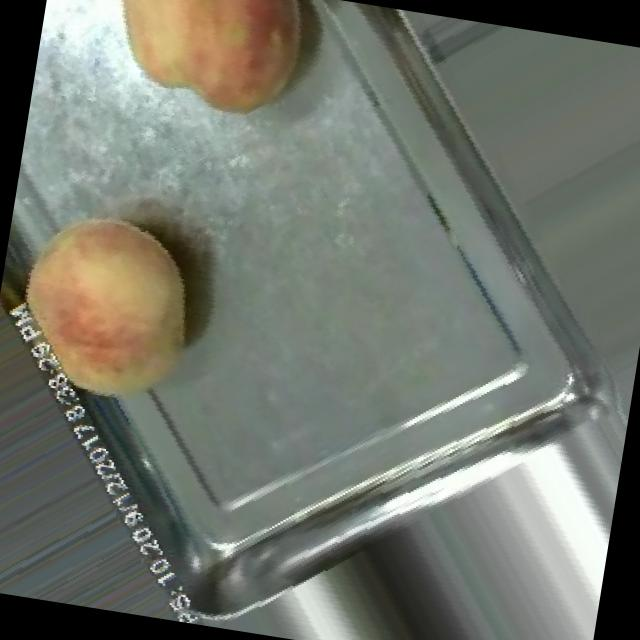Fruit: (0, 181, 231, 440), (76, 0, 335, 150)
